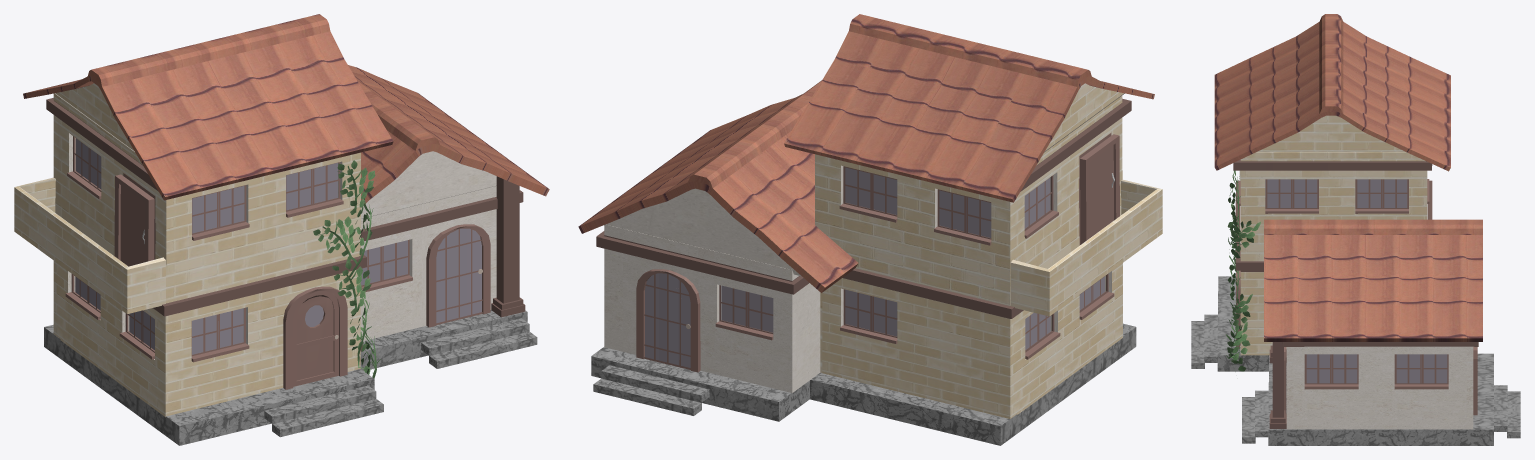
The model's file is Chrerrys_Atelier.fbx.
3 renders of one model, left to right at view 1: azimuth 30°, elevation 25°; view 2: azimuth 150°, elevation 25°; view 3: azimuth 270°, elevation 25°, orthographic. The views are drawn at different scales.
Parts seen in each view (by area): view 1: A_house_model, Atelier_house:rooft, Atelier_house_windows_and_doors, Atelier_house_floor, Atelier_workshop_rooft, A_workshop, Atelier_workshop_windows_and_doors, Atelier_workshop_floor, Atelier_workshop_inside_rooft, climbing_Plant, Atelier_colums, Atelier_house_beam (+3 smaller); view 2: A_house_model, Atelier_house:rooft, Atelier_workshop_rooft, A_workshop, Atelier_house_windows_and_doors, Atelier_house_floor, Atelier_workshop_floor, Atelier_workshop_windows_and_doors, Atelier_workshop_inside_rooft, Atelier_workshop_beam, Atelier_house_beam, Atelier_house_inside_rooft (+1 smaller); view 3: Atelier_workshop_rooft, Atelier_house:rooft, A_workshop, A_house_model, Atelier_workshop_floor, Atelier_house_floor, Atelier_house_inside_rooft, Atelier_workshop_windows_and_doors, climbing_Plant, Atelier_top_house_beam, Atelier_house_windows_and_doors, Atelier_colums (+2 smaller).
Part boxes in pixels (x1,y1,x2,y2): A_house_model: [14, 93, 360, 417]; Atelier_house:rooft: [23, 14, 393, 200]; Atelier_house_windows_and_doors: [65, 136, 347, 389]; Atelier_house_floor: [44, 324, 383, 445]; Atelier_workshop_rooft: [348, 65, 549, 207]; A_workshop: [360, 186, 496, 341]; Atelier_workshop_windows_and_doors: [361, 224, 490, 327]; Atelier_workshop_floor: [360, 310, 537, 370]; Atelier_workshop_inside_rooft: [361, 151, 496, 218]; climbing_Plant: [313, 160, 380, 378]; Atelier_colums: [360, 176, 525, 351]; Atelier_house_beam: [153, 253, 366, 316]; A_house_model: [815, 96, 1162, 418]; Atelier_house:rooft: [784, 14, 1154, 202]; Atelier_workshop_rooft: [578, 80, 858, 292]; A_workshop: [604, 224, 820, 392]; Atelier_house_windows_and_doors: [839, 134, 1119, 359]; Atelier_house_floor: [810, 323, 1136, 445]; Atelier_workshop_floor: [591, 347, 809, 421]; Atelier_workshop_windows_and_doors: [636, 269, 773, 372]; Atelier_workshop_inside_rooft: [604, 188, 801, 276]; Atelier_workshop_beam: [596, 231, 808, 294]; Atelier_house_beam: [843, 268, 1023, 318]; Atelier_house_inside_rooft: [1044, 83, 1124, 152]; Atelier_workshop_rooft: [1264, 219, 1482, 341]; Atelier_house:rooft: [1214, 14, 1450, 171]; A_workshop: [1286, 346, 1473, 429]; A_house_model: [1239, 152, 1427, 355]; Atelier_workshop_floor: [1242, 353, 1520, 445]; Atelier_house_floor: [1191, 276, 1268, 371]; Atelier_house_inside_rooft: [1257, 115, 1405, 151]; Atelier_workshop_windows_and_doors: [1284, 346, 1477, 415]; climbing_Plant: [1225, 170, 1260, 371]; Atelier_top_house_beam: [1233, 159, 1432, 170]; Atelier_house_windows_and_doors: [1236, 179, 1429, 348]; Atelier_colums: [1269, 342, 1286, 428].
Size of the model in its own units: 931 by 677 by 732.
Materials: 10 (7 with a texture image).
